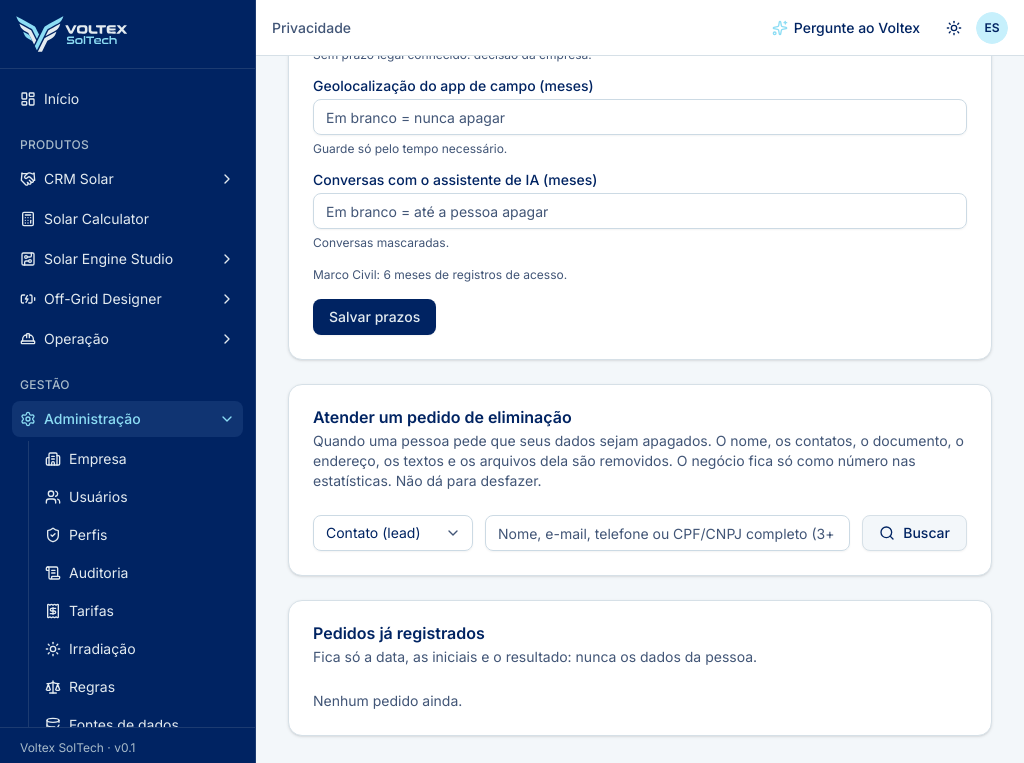
Test case: Administração · Privacidade (LGPD) › elimina os dados de um contato: busca, escolhe, anota a origem e confirma
The width and height of the screenshot is (1024, 763).
(page scrolled)
Type "maria" into the field named "Buscar pessoa".
click(668, 533); type("maria")  # box 485,515 -> 850,551
Click the button "Buscar".
click(915, 533)  # box 862,515 -> 967,551
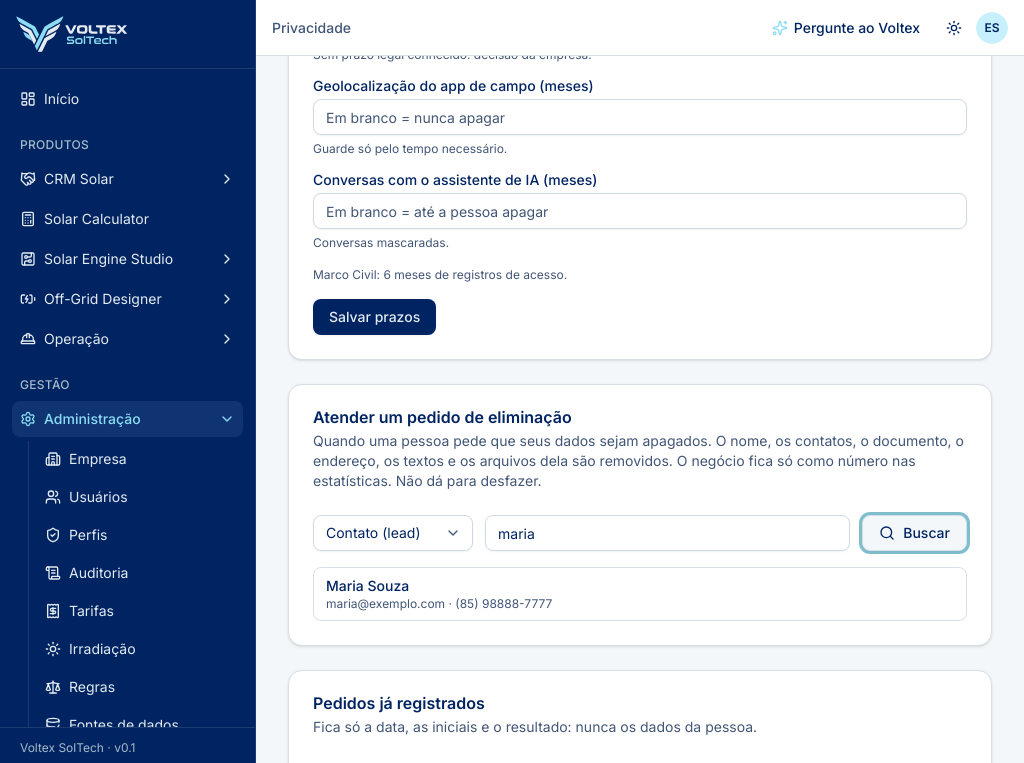
Click the button "Maria Souza maria@exemplo.com · (85) 98888-7777".
click(368, 586)  # box 314,568 -> 966,620
(page scrolled)
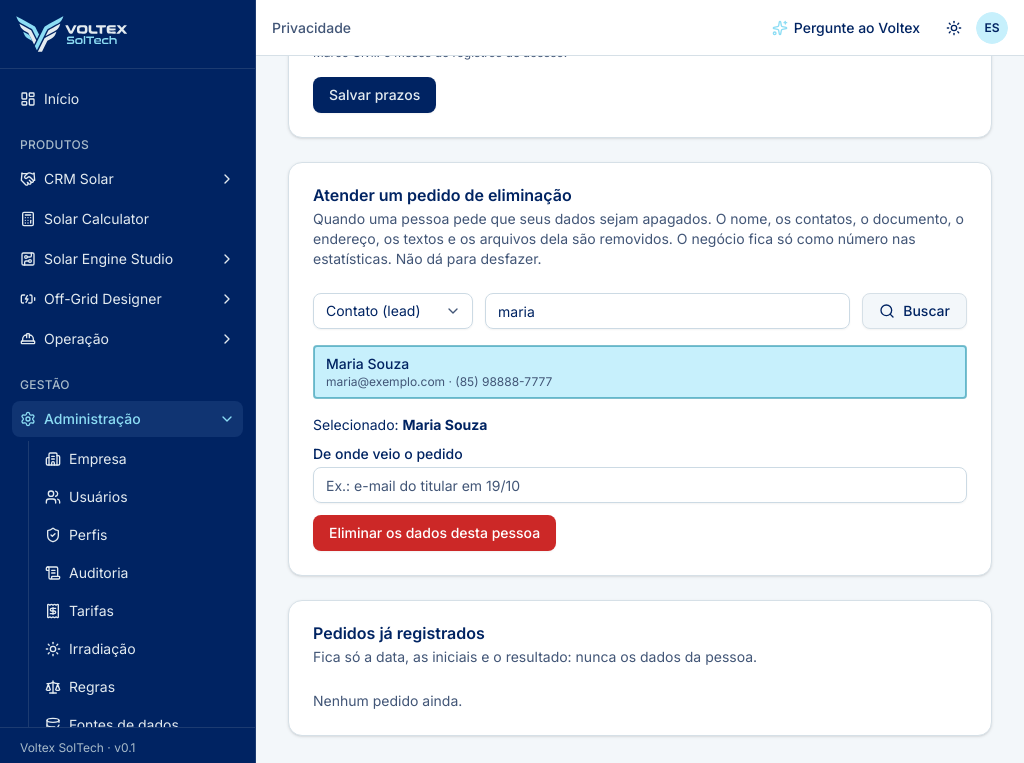
Click the button "Eliminar os dados desta pessoa".
click(435, 533)  # box 313,515 -> 556,551
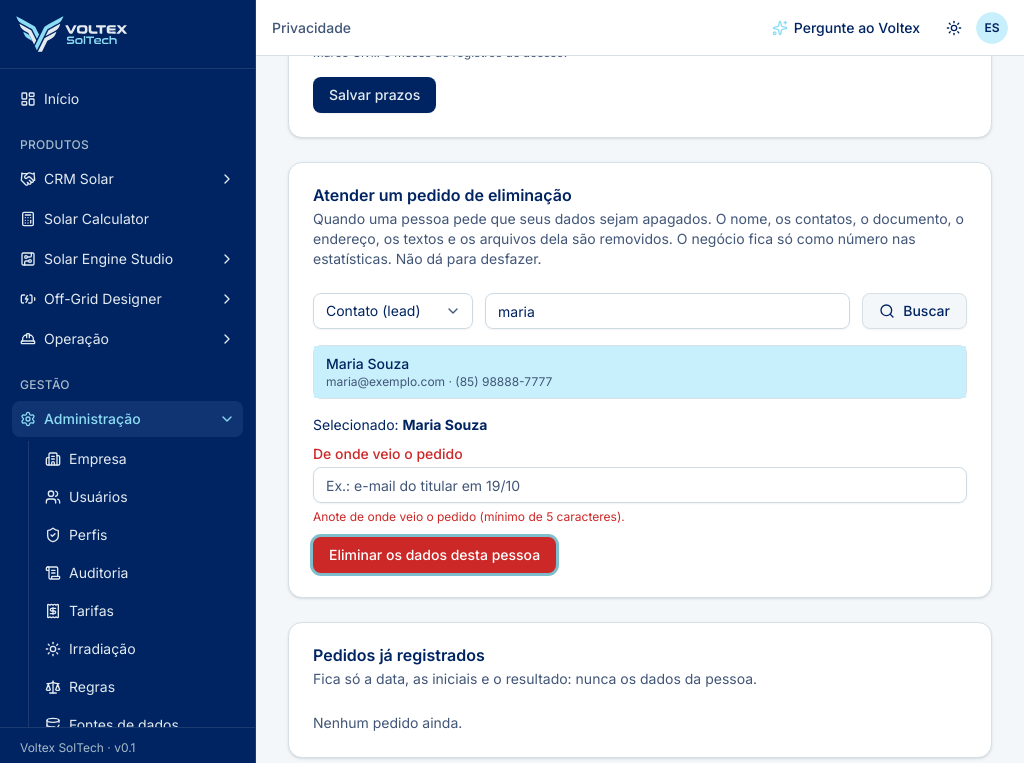
Check: the text "Anote de onde veio o pedido (mínimo de 5 caracteres)." is shown, box 313,509 -> 625,524
Type "E-mail do titular em 19/10" into the field labelled "De onde veio o pedido".
click(640, 485); type("E-mail do titular em 19/10")  # box 313,467 -> 967,503
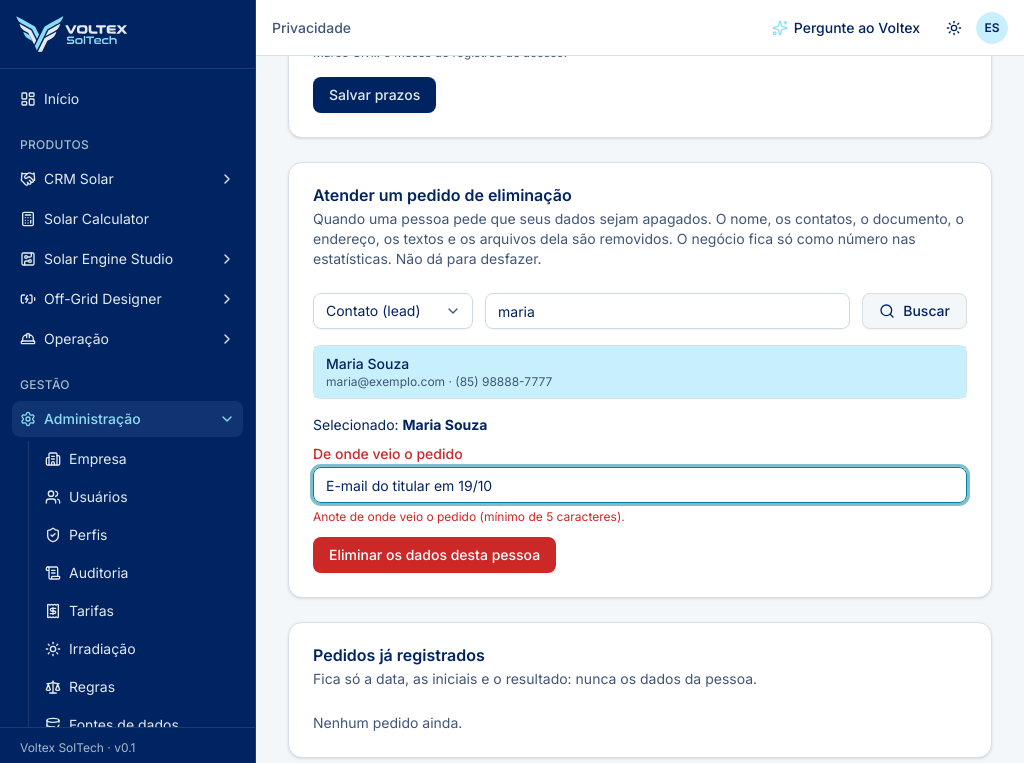
Click the button "Eliminar os dados desta pessoa".
click(435, 555)  # box 313,537 -> 556,573
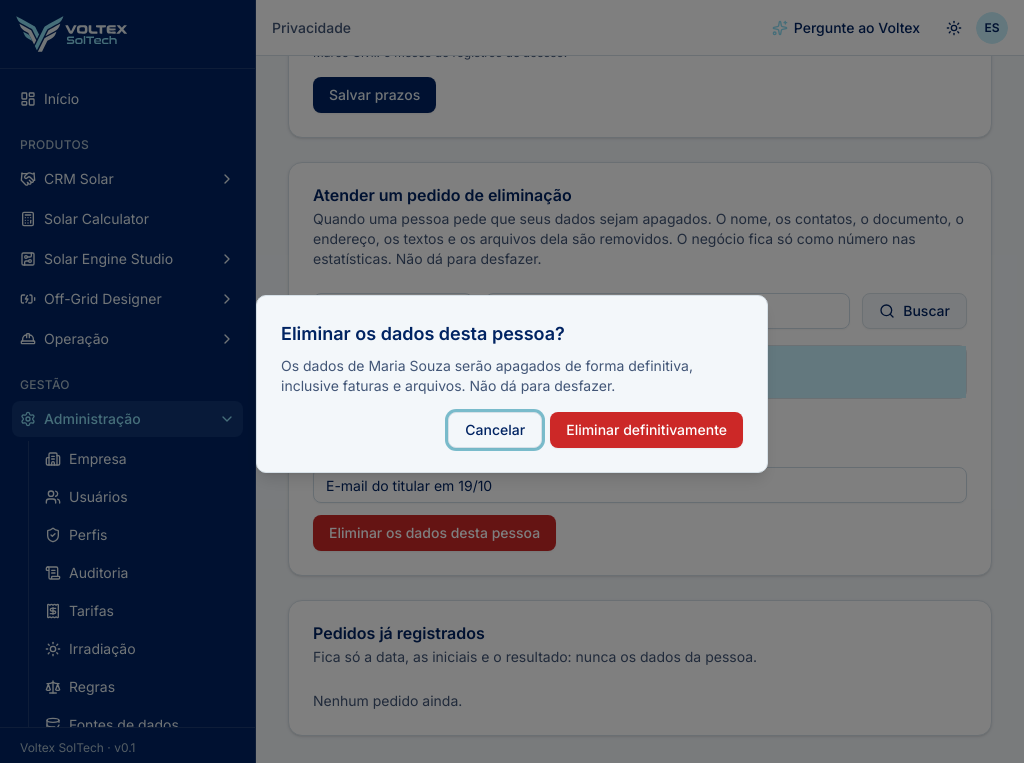
Check: the text "Não dá para desfazer" is shown, box 281,357 -> 693,394
Click the button "Eliminar definitivamente".
click(647, 430)  # box 550,412 -> 743,448
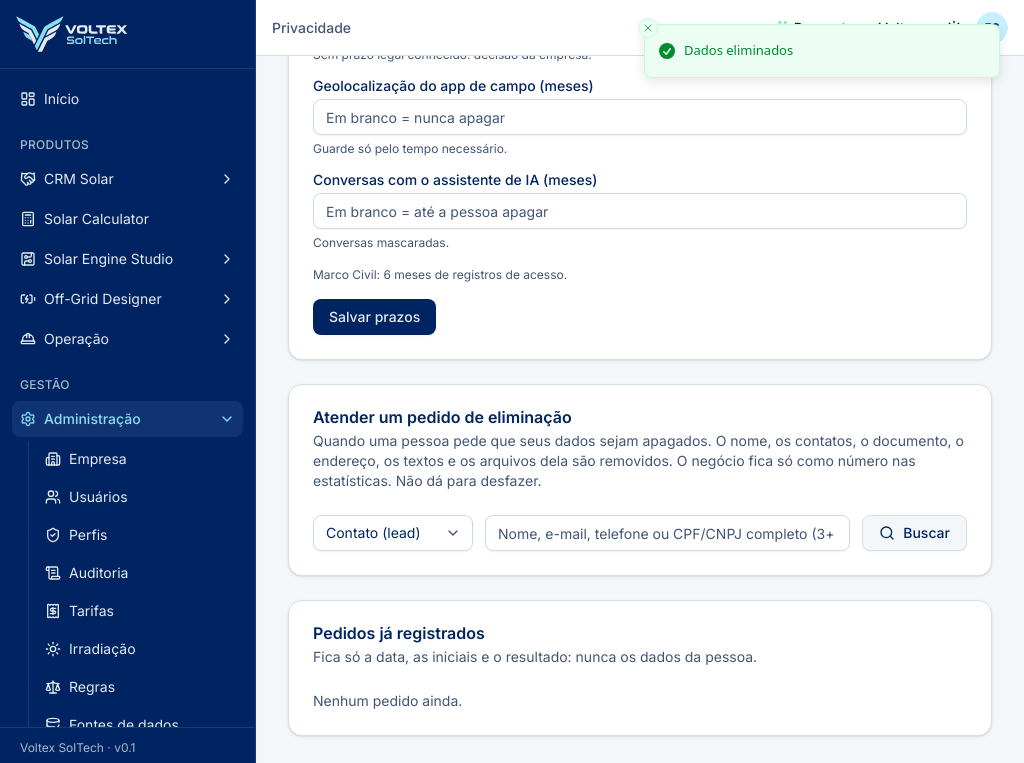
Check: the text "Dados eliminados" is shown, box 684,41 -> 793,60
